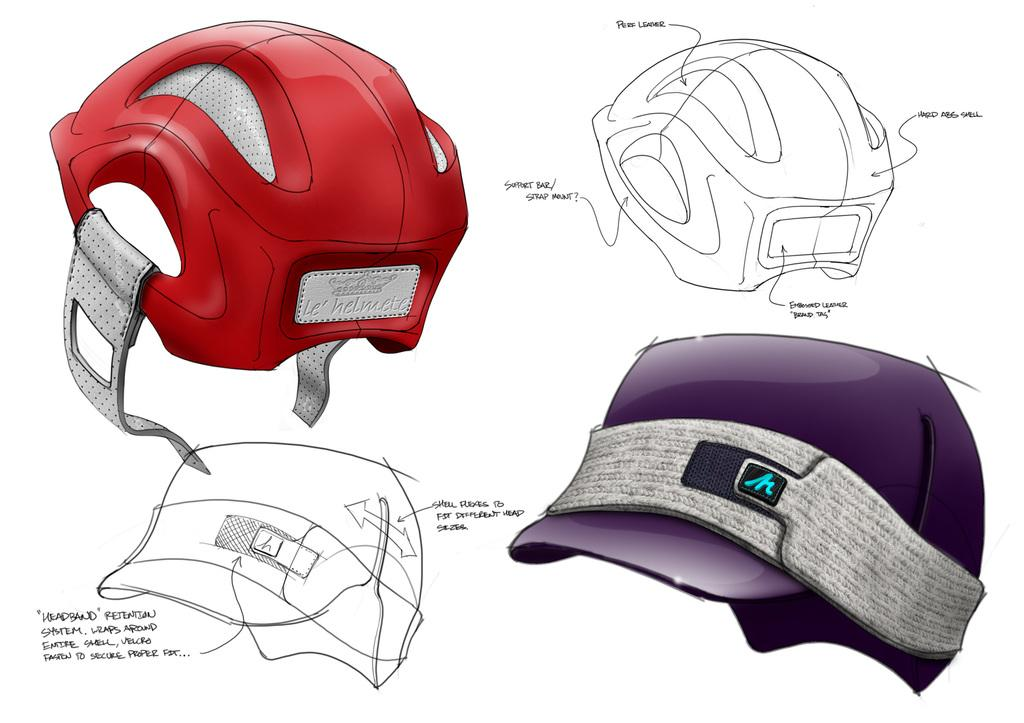Hat: (506, 331, 1000, 690)
